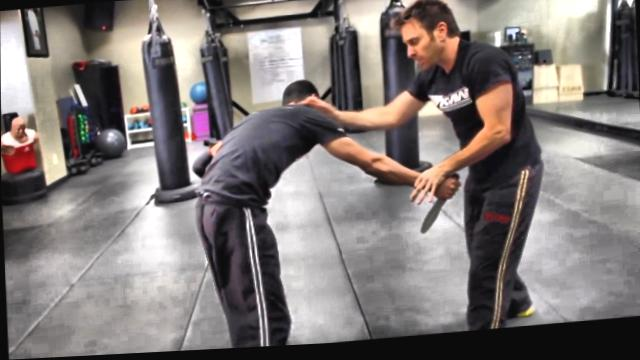knife: (416, 176, 462, 243)
